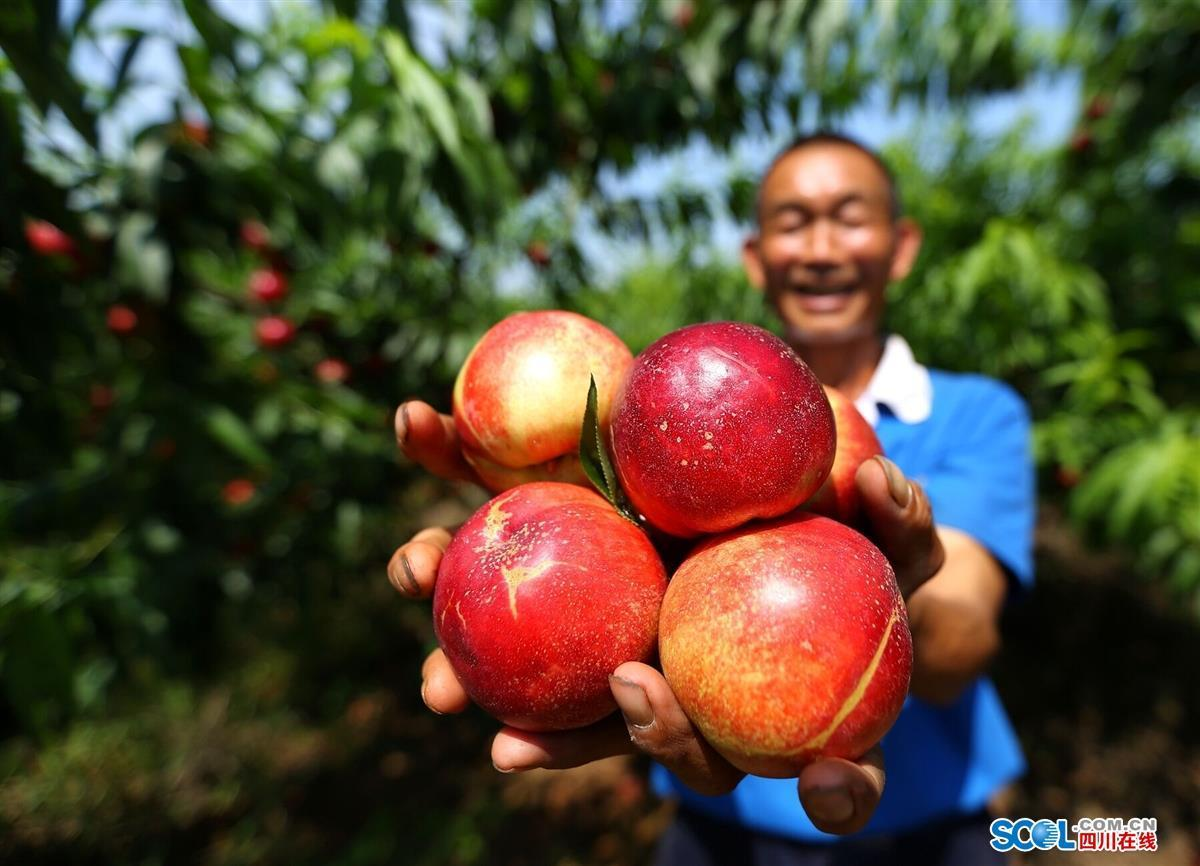apple: (658, 514, 913, 769), (432, 481, 667, 727), (613, 319, 838, 543), (450, 310, 638, 475)
